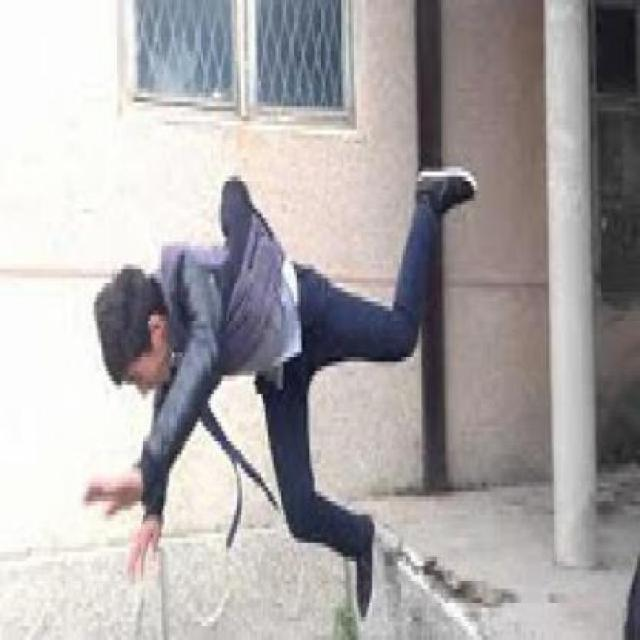fall: (83, 156, 479, 622)
